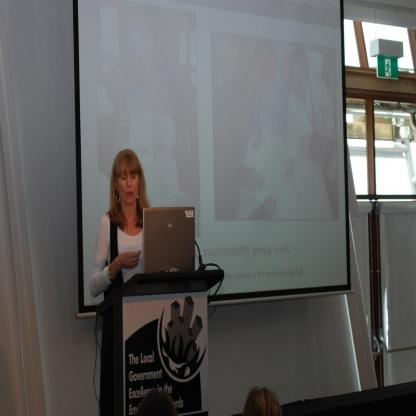board: (140, 213, 198, 287)
